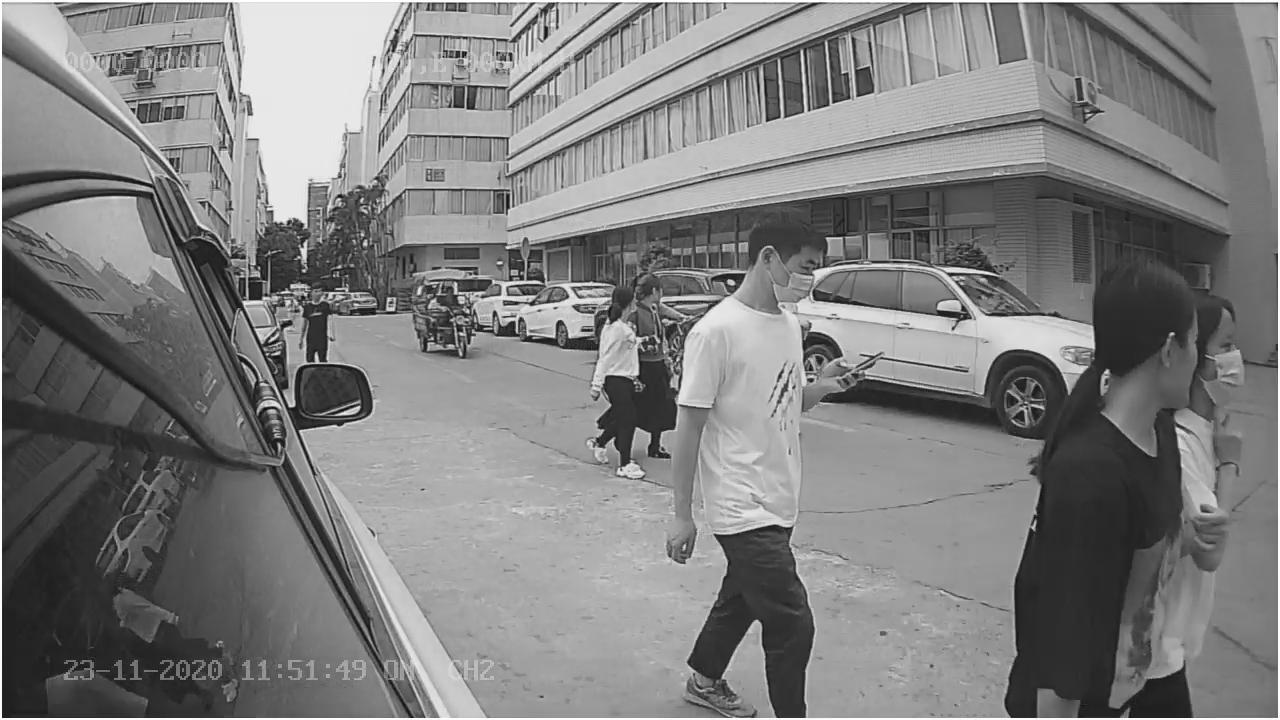person: (661, 204, 867, 714)
